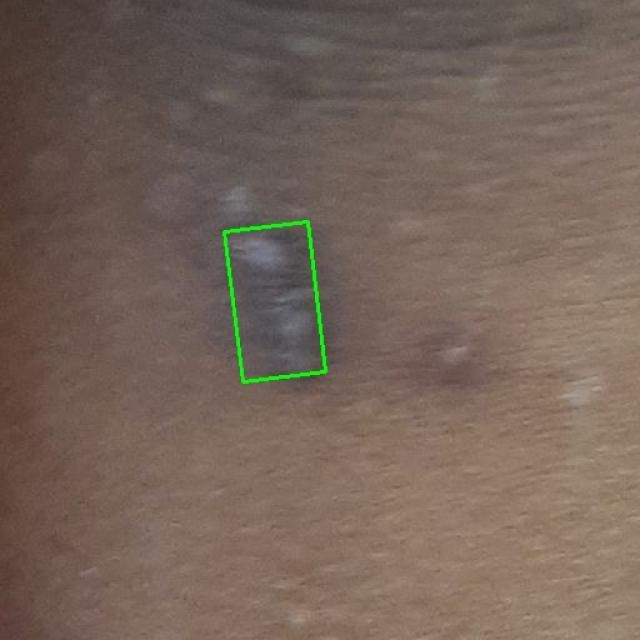Scabies: (225, 222, 325, 381)
